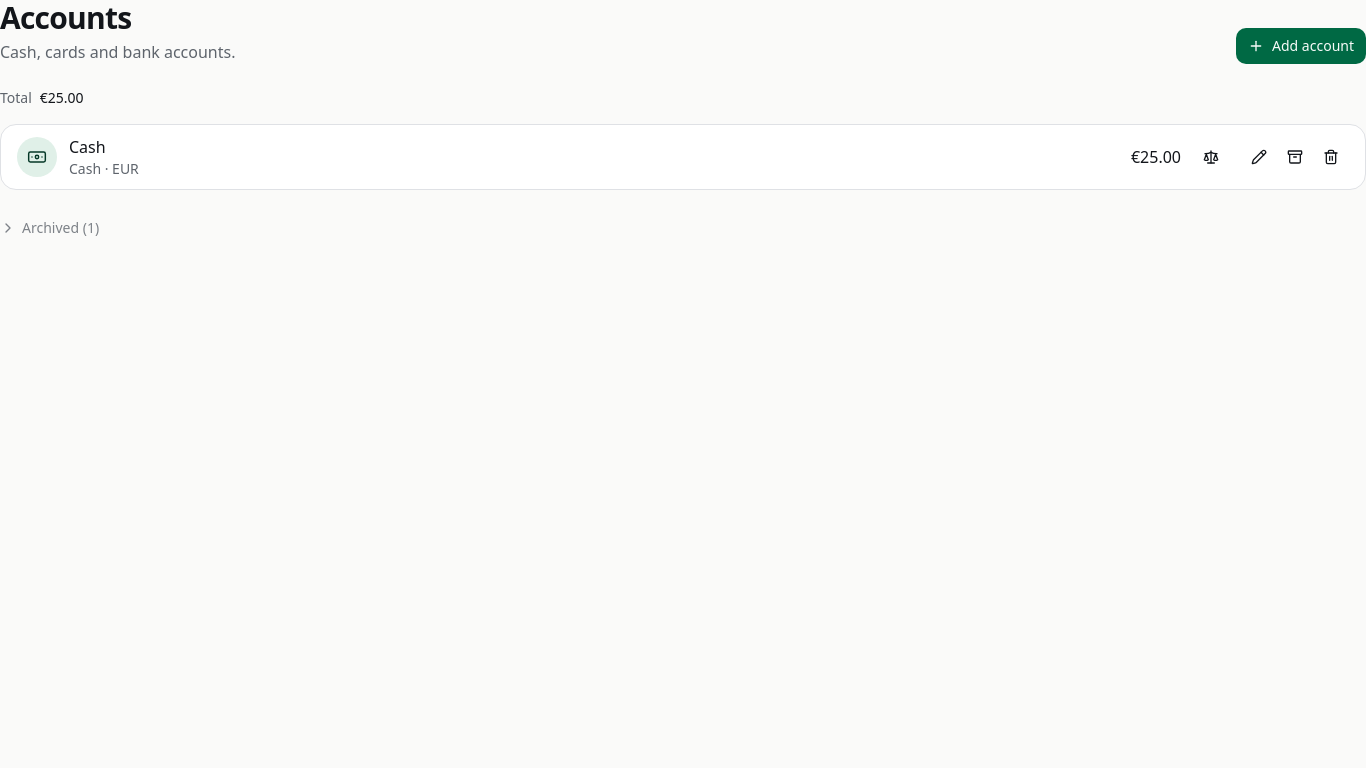
AccountsPage › sets the current balance from what the bank shows
The width and height of the screenshot is (1366, 768).
Click the button named "Set current balance of Cash" at (1211, 157), box [1193,139,1229,175]
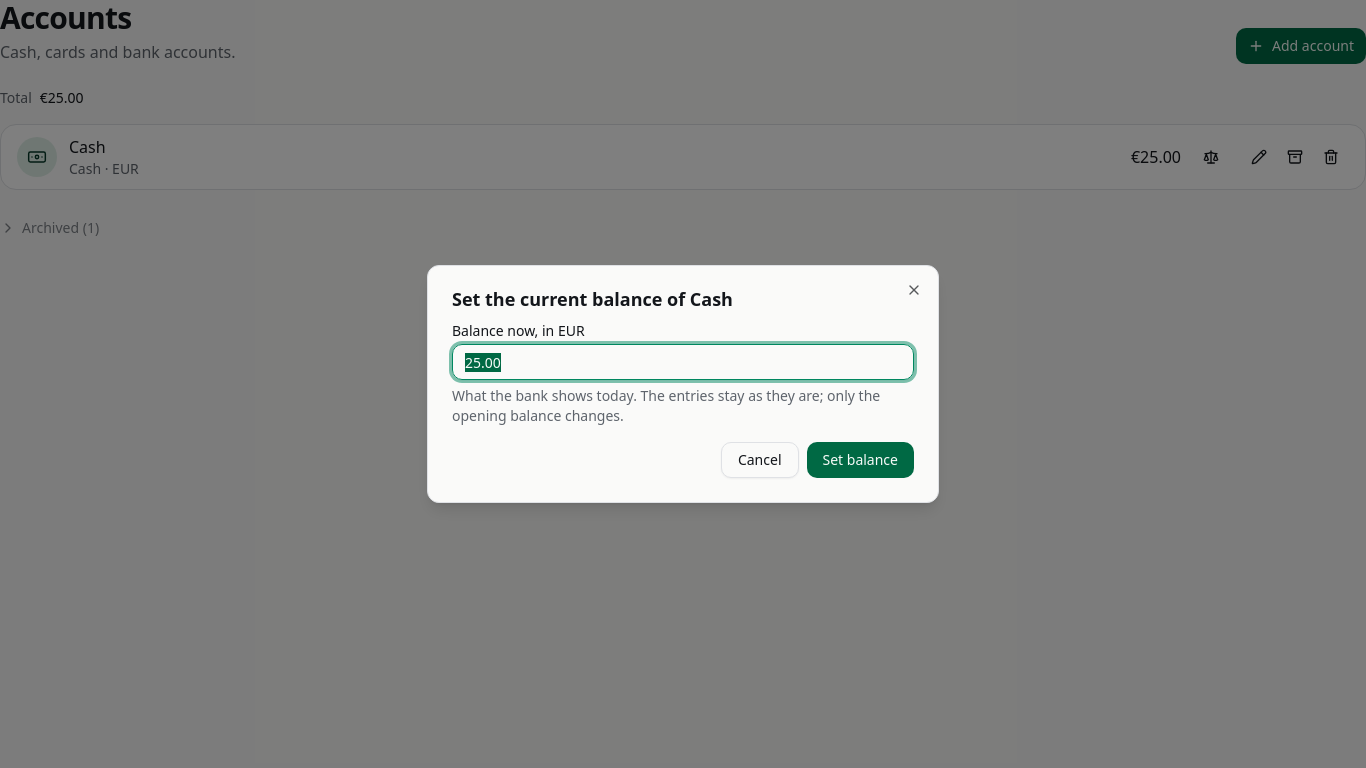
Expected: the field labelled "Balance now, in EUR" holds "25.00"
Replace the text in the field labelled "Balance now, in EUR" with "1750" at (683, 362), box [452,344,914,380]
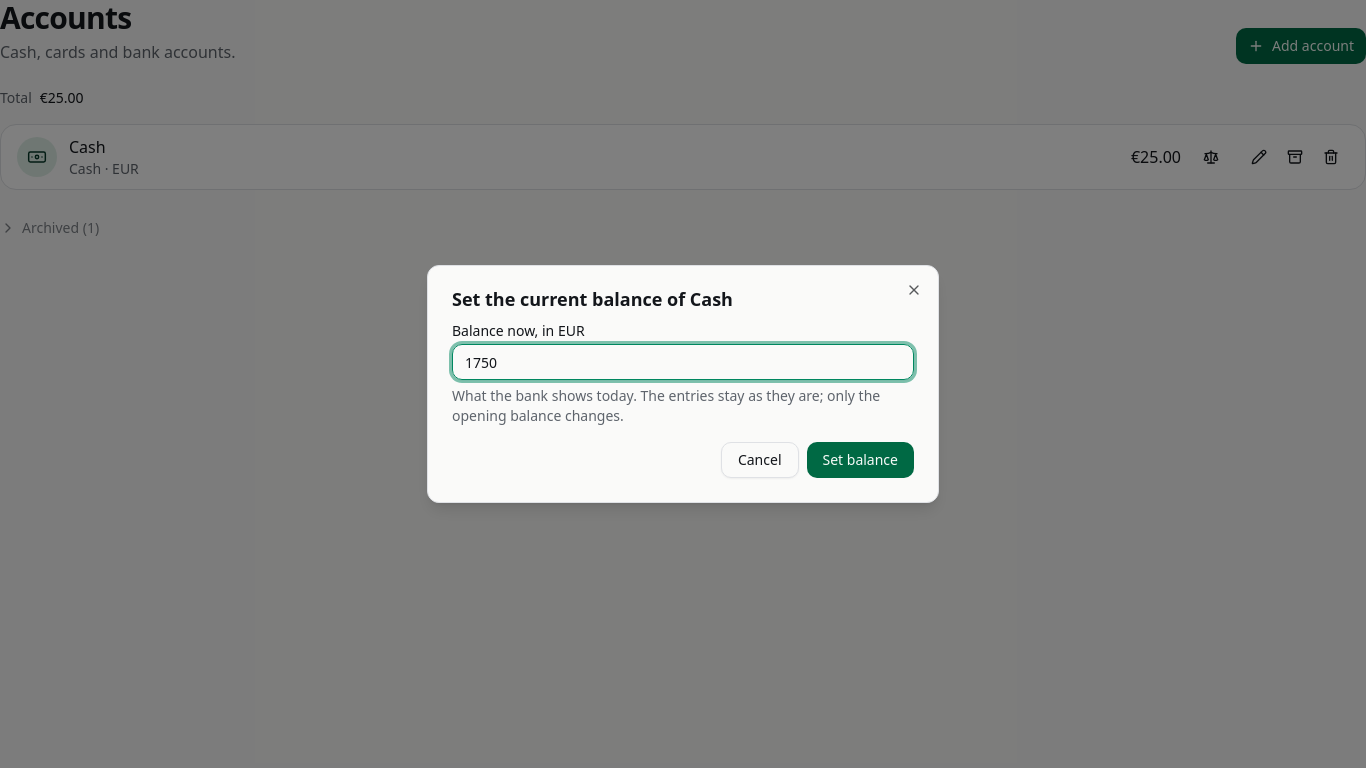
Click the button "Set balance" at (860, 460), box [806,442,914,478]
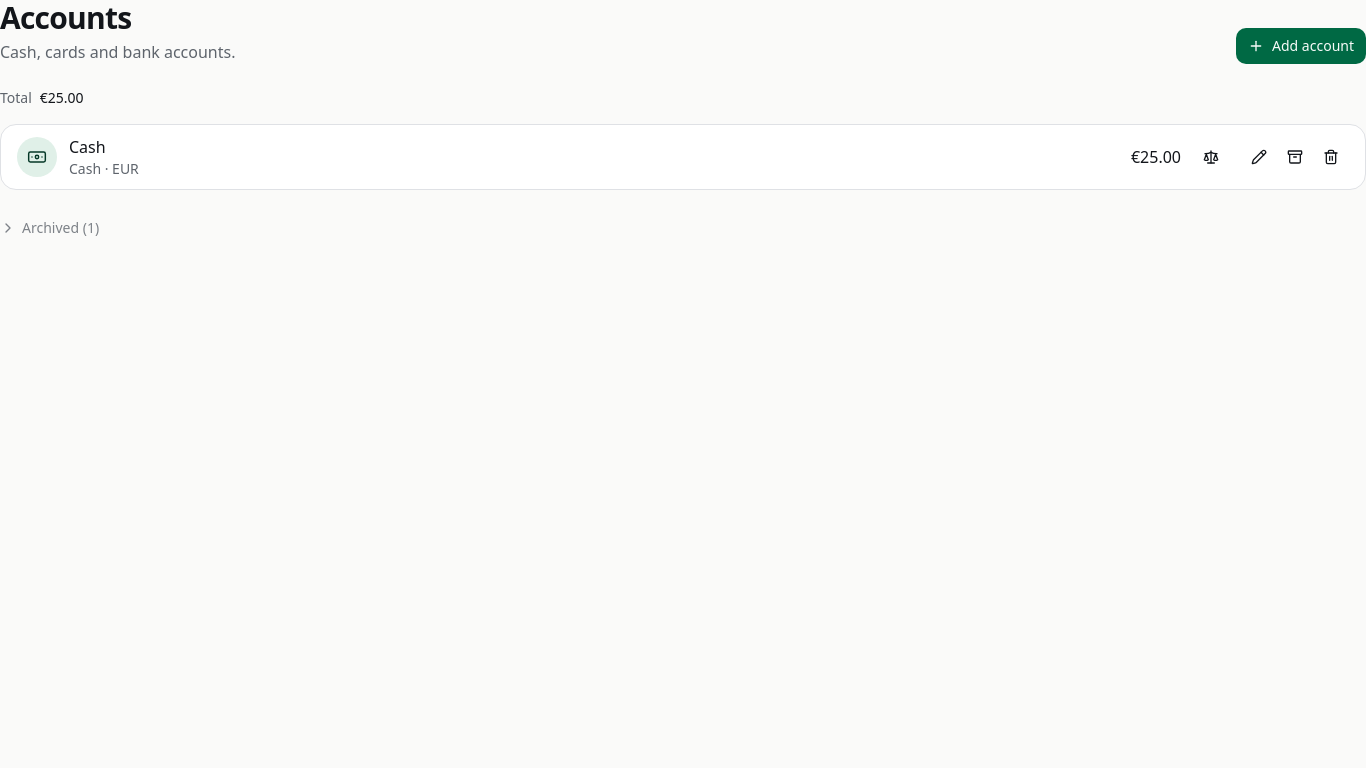
Expected: the dialog is gone
